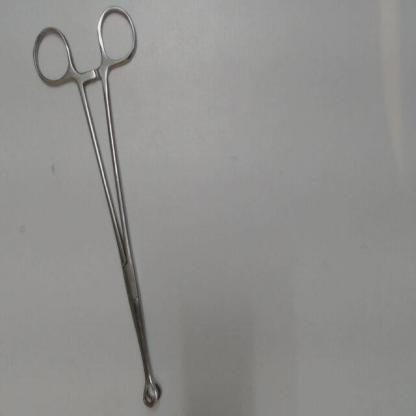8 Babcock Tissue Forceps: (27, 1, 166, 412)
